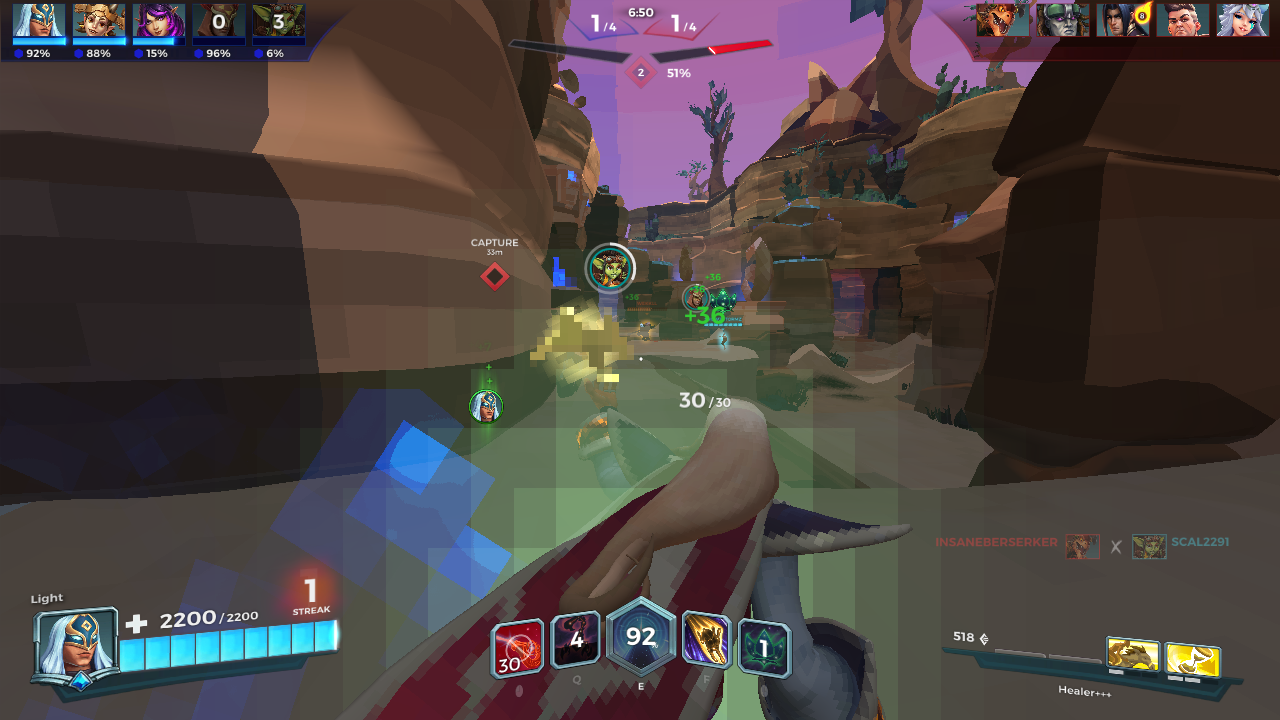model: (633, 317, 660, 348)
